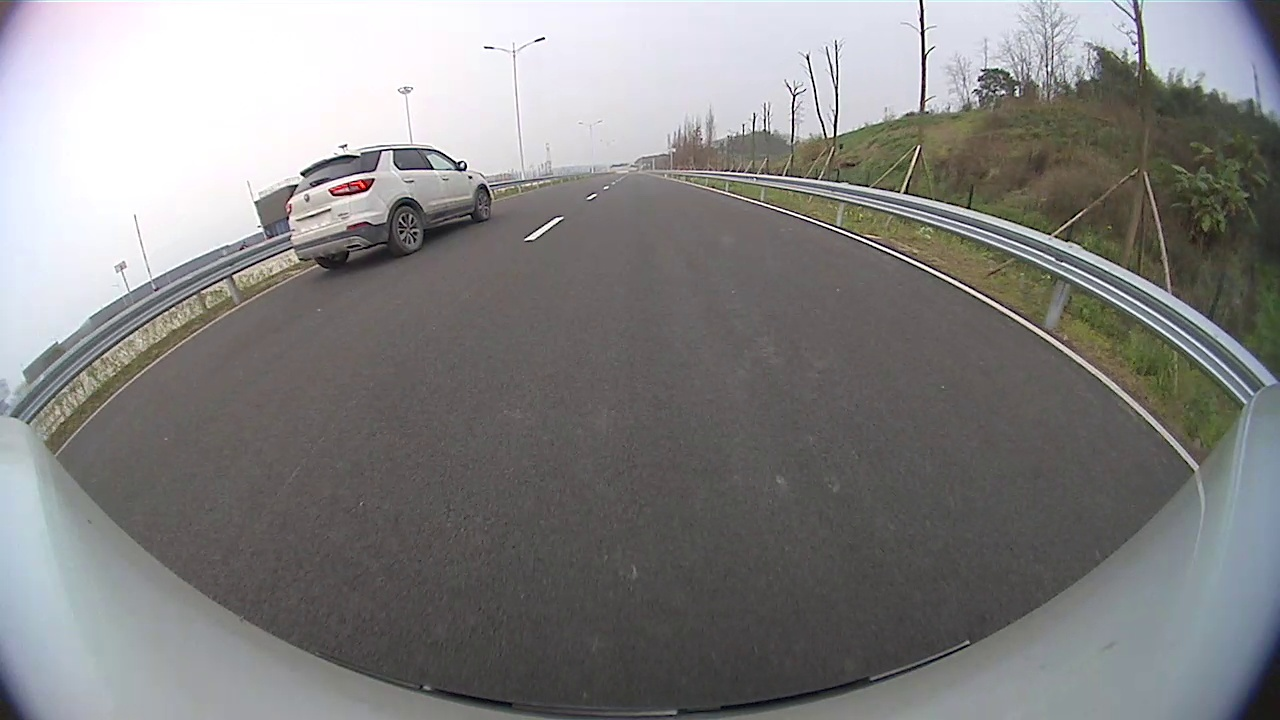car: (285, 144, 493, 270)
front: (470, 184, 492, 225)
rear: (389, 203, 426, 258)
